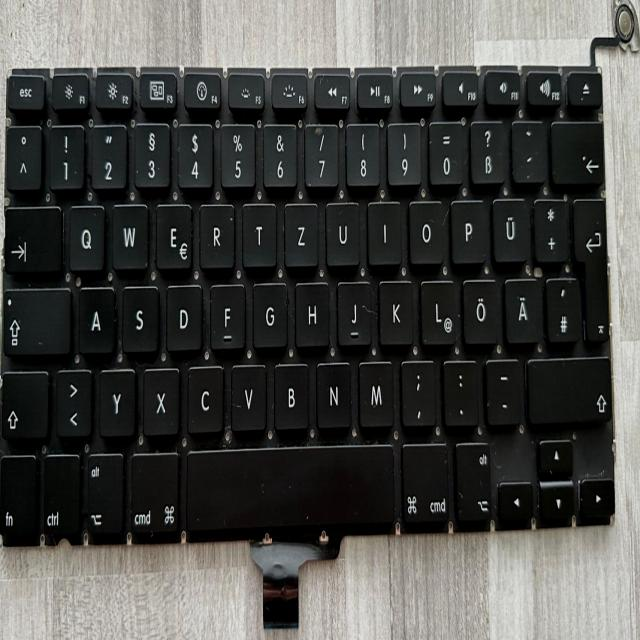0: (427, 117, 464, 186)
1: (46, 121, 84, 190)
2: (89, 120, 127, 190)
3: (132, 118, 170, 189)
4: (176, 119, 213, 188)
5: (219, 118, 256, 188)
6: (261, 119, 297, 189)
7: (302, 119, 338, 188)
8: (344, 119, 380, 187)
9: (385, 118, 421, 186)
a: (77, 282, 115, 353)
accent: (510, 116, 546, 184)
ae: (503, 274, 541, 343)
alt-left: (85, 449, 124, 539)
altgr-right: (454, 437, 490, 527)
b: (271, 358, 309, 429)
c: (185, 362, 223, 434)
caret: (3, 120, 41, 189)
comma: (399, 355, 435, 426)
d: (164, 280, 202, 352)
del: (550, 116, 604, 185)
e: (154, 199, 192, 271)
enter: (571, 193, 607, 343)
f: (209, 280, 245, 351)
g: (250, 279, 287, 348)
h: (292, 277, 328, 347)
hash: (544, 273, 580, 344)
i: (365, 196, 401, 264)
j: (335, 276, 371, 348)
k: (377, 276, 413, 346)
keyboard: (0, 48, 622, 558)
l: (418, 276, 456, 346)
less: (54, 364, 92, 438)
m: (356, 356, 393, 428)
minus: (483, 355, 521, 424)
n: (314, 357, 351, 428)
o: (406, 196, 443, 265)
oe: (461, 275, 499, 346)
p: (449, 195, 487, 264)
plus: (532, 194, 567, 262)
point: (440, 356, 478, 425)
q: (67, 200, 105, 272)
r: (197, 199, 235, 269)
s: (120, 281, 158, 353)
shift-left: (0, 366, 48, 441)
shift-lock: (1, 282, 71, 356)
shift-right: (524, 352, 610, 424)
space: (184, 440, 394, 530)
ss: (468, 117, 506, 185)
strg-left: (43, 452, 82, 542)
t: (240, 198, 276, 267)
tab: (3, 202, 61, 274)
u: (324, 198, 360, 267)
ue: (490, 194, 528, 264)
v: (228, 359, 266, 431)
w: (109, 199, 147, 270)
x: (141, 363, 179, 435)
y: (97, 364, 135, 436)
z: (282, 198, 318, 268)
